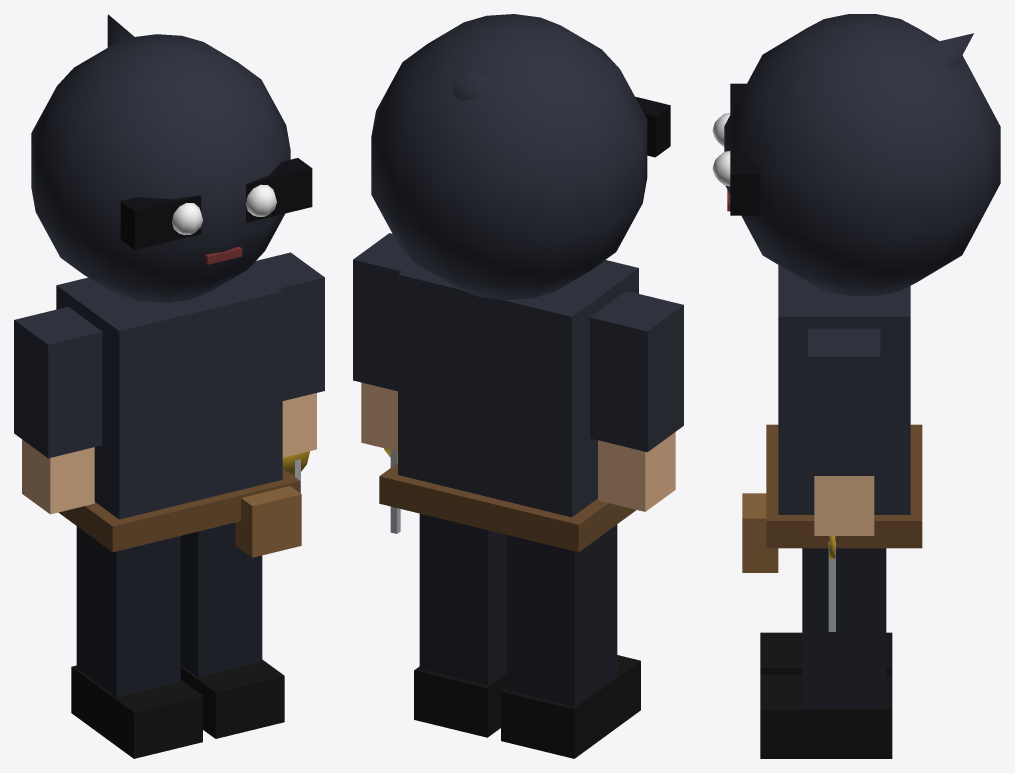
File: kid_caio.glb
3 renders of one model, left to right at view 1: azimuth 30°, elevation 25°; view 2: azimuth 150°, elevation 25°; view 3: azimuth 270°, elevation 25°, orthographic. The views are drawn at different scales.
Parts seen in each view (by area): view 1: hood, torso, leg, sleeve, leg.001, shoe, sleeve.001, belt, shoe.001, mask, hand, pouch (+3 smaller); view 2: hood, torso, leg, leg.001, sleeve, belt, shoe, sleeve.001, shoe.001, hand, hand.001, mask (+1 smaller); view 3: hood, torso, leg.001, sleeve.001, shoe.001, belt, hand.001, pouch, shoe, mask, hoodtip, pick (+1 smaller).
Boxes of the visible parts, x1=… form: hood: x1=31, y1=34, x2=290, y2=302; torso: x1=56, y1=267, x2=282, y2=519; leg: x1=76, y1=526, x2=180, y2=697; sleeve: x1=14, y1=307, x2=102, y2=458; leg.001: x1=180, y1=522, x2=262, y2=677; shoe: x1=71, y1=665, x2=202, y2=758; sleeve.001: x1=250, y1=252, x2=324, y2=400; belt: x1=58, y1=468, x2=300, y2=552; shoe.001: x1=180, y1=659, x2=284, y2=738; mask: x1=120, y1=158, x2=312, y2=249; hand: x1=22, y1=439, x2=94, y2=514; pouch: x1=235, y1=486, x2=301, y2=557; hood: x1=371, y1=14, x2=647, y2=299; torso: x1=398, y1=260, x2=638, y2=517; leg: x1=506, y1=524, x2=617, y2=706; leg.001: x1=419, y1=513, x2=506, y2=685; sleeve: x1=590, y1=291, x2=683, y2=452; belt: x1=379, y1=463, x2=636, y2=552; shoe: x1=501, y1=655, x2=640, y2=758; sleeve.001: x1=353, y1=233, x2=414, y2=391; shoe.001: x1=414, y1=666, x2=506, y2=737; hand: x1=598, y1=432, x2=675, y2=511; hand.001: x1=361, y1=382, x2=397, y2=451; mask: x1=635, y1=96, x2=670, y2=157; hood: x1=724, y1=14, x2=1000, y2=295; torso: x1=778, y1=265, x2=910, y2=514; leg.001: x1=802, y1=548, x2=886, y2=708; sleeve.001: x1=808, y1=328, x2=880, y2=475; shoe.001: x1=760, y1=674, x2=892, y2=758; belt: x1=766, y1=424, x2=922, y2=548; hand.001: x1=814, y1=476, x2=874, y2=535; pouch: x1=742, y1=493, x2=778, y2=572; shoe: x1=760, y1=632, x2=892, y2=674; mask: x1=730, y1=83, x2=760, y2=215; hoodtip: x1=931, y1=33, x2=973, y2=67; pick: x1=828, y1=542, x2=835, y2=631.
Size of the model in its own units: 0.5612 by 1.28 by 0.4803.
